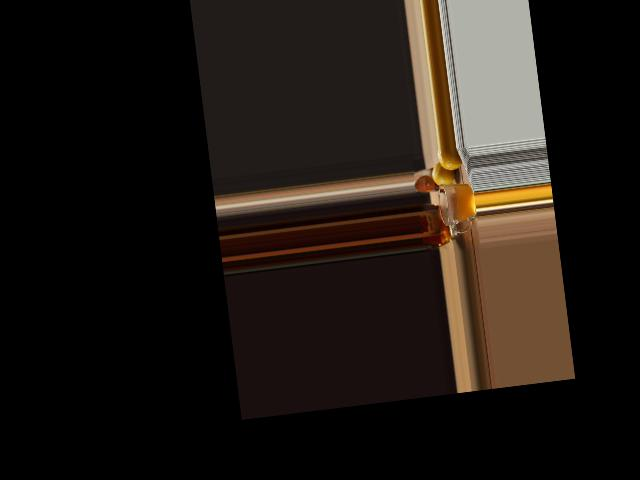lemon: (439, 148, 461, 169)
